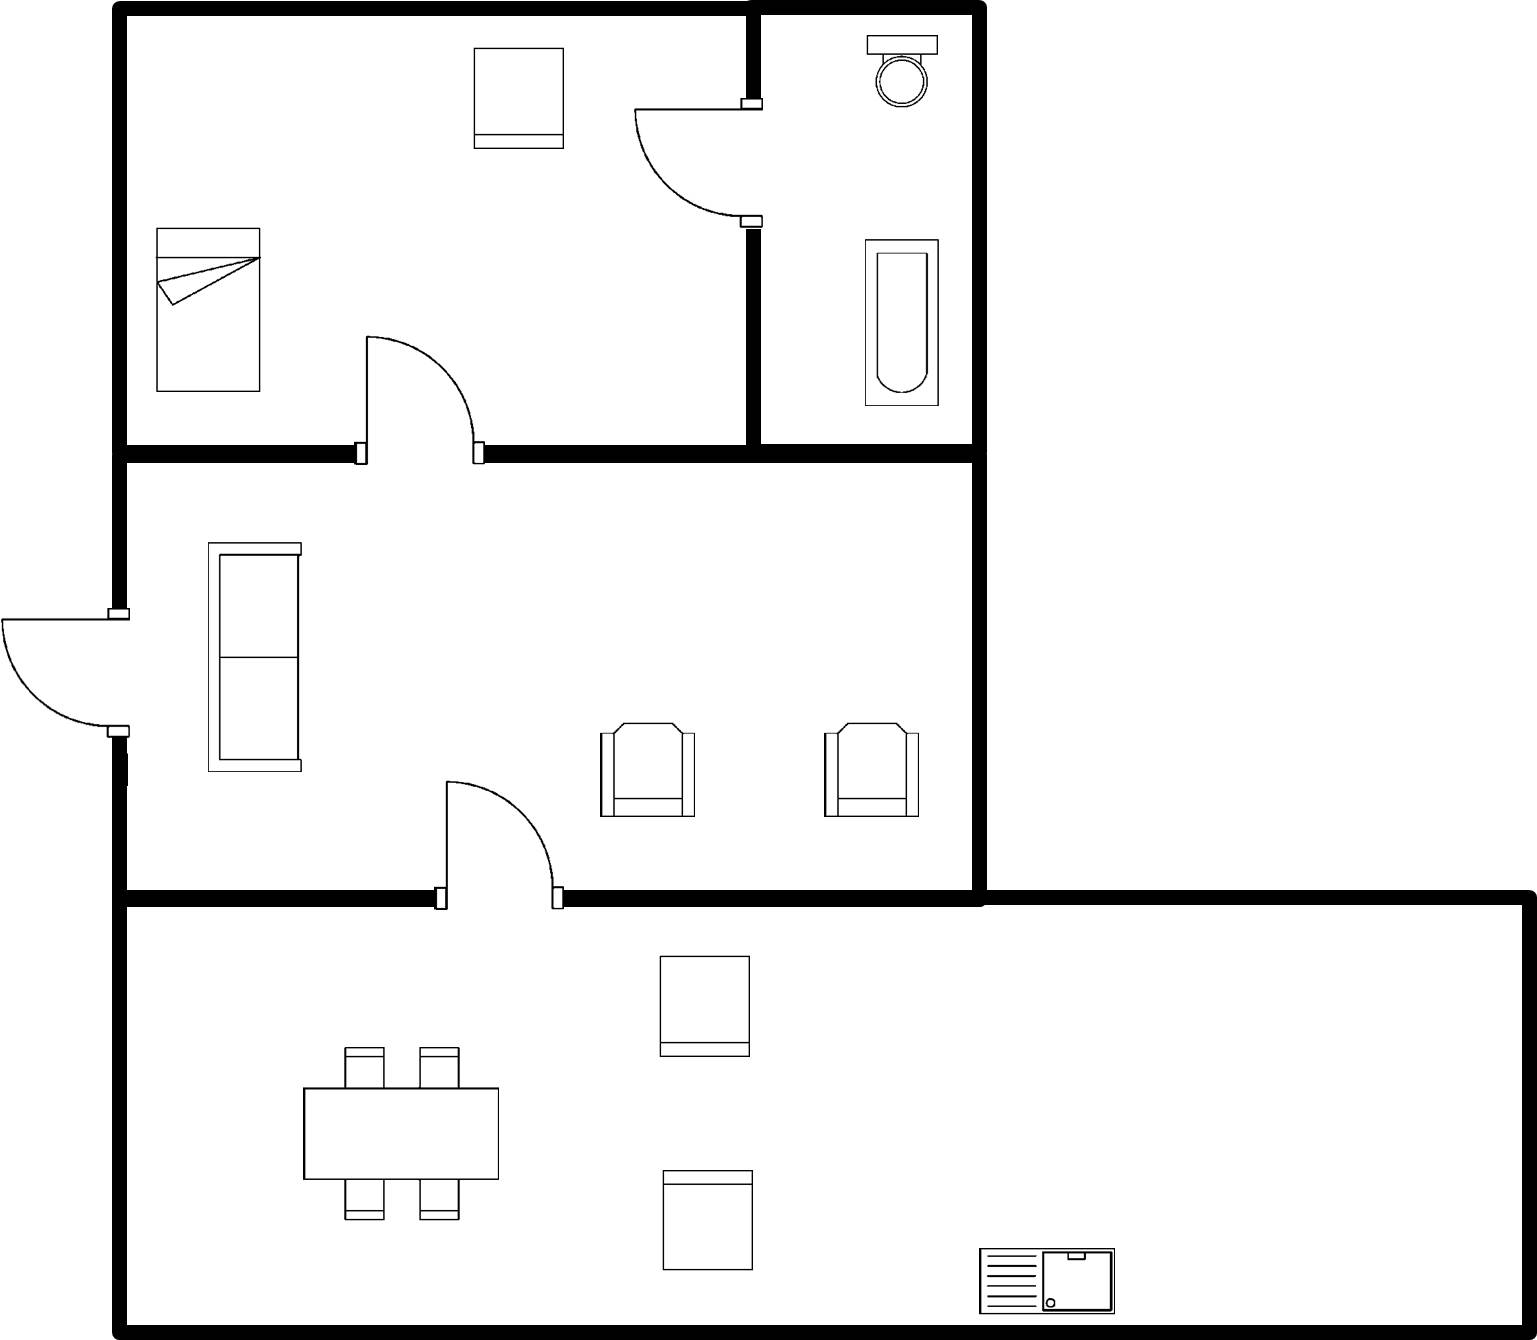armchair: (589, 711, 705, 828), (812, 712, 929, 825)
bed: (145, 218, 272, 404)
dining_table: (290, 1037, 507, 1228)
large_sink: (854, 26, 944, 113)
large_sofa: (199, 531, 315, 781)
sink: (968, 1237, 1123, 1321)
small_sofa: (647, 947, 762, 1068), (649, 1163, 767, 1277), (462, 39, 572, 159)
tub: (854, 230, 946, 415)
